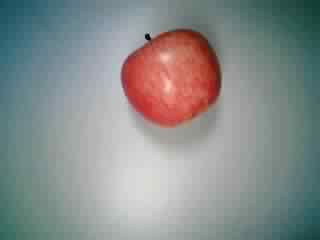apple: (120, 27, 226, 131)
